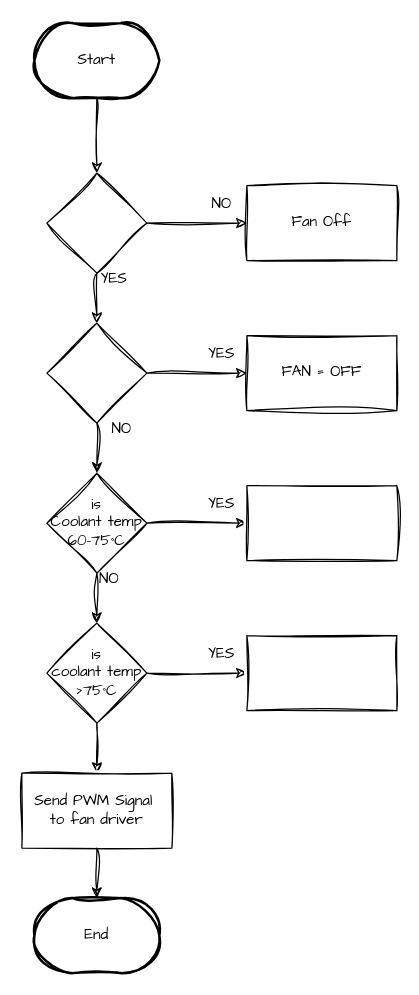
This 419x995 diagram has some shape labels left out. The centre of each missing label's shape, as x and y in pixels:
"Fan Speed 0-50%" goes at [321,522].
"Fan Speed 50-100%" goes at [321,672].
"is coolant temp <60°C" goes at [96,372].
"System state = RUN ?" goes at [96,222].
